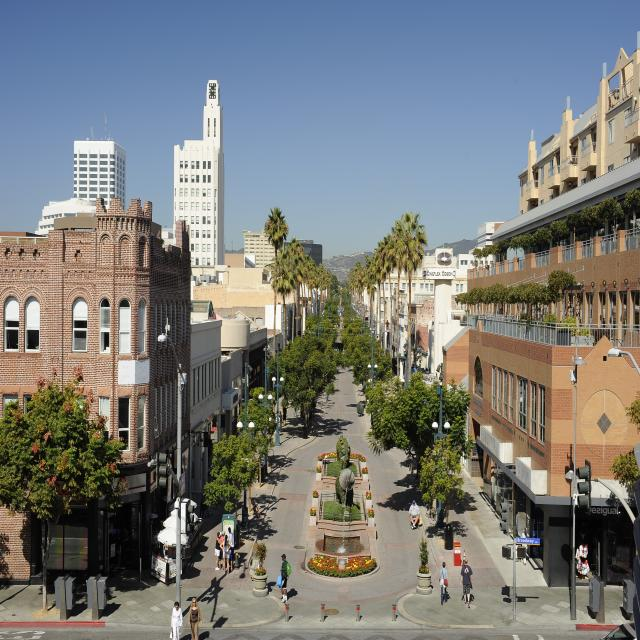body: (276, 552, 292, 604), (460, 558, 474, 610), (438, 588, 477, 606), (188, 597, 202, 640), (169, 600, 183, 640), (219, 534, 232, 576), (214, 551, 236, 574), (439, 561, 450, 606), (408, 499, 423, 530), (249, 540, 260, 582), (214, 531, 224, 571), (178, 629, 211, 640), (228, 526, 235, 572), (280, 587, 298, 603), (219, 530, 226, 570), (199, 491, 208, 520), (164, 544, 170, 575), (282, 404, 288, 426), (150, 532, 156, 554), (153, 529, 159, 548), (278, 411, 282, 433), (159, 520, 166, 532), (163, 543, 168, 557), (294, 404, 298, 417), (341, 362, 347, 370), (386, 320, 390, 330), (299, 408, 301, 416), (326, 394, 328, 402)
